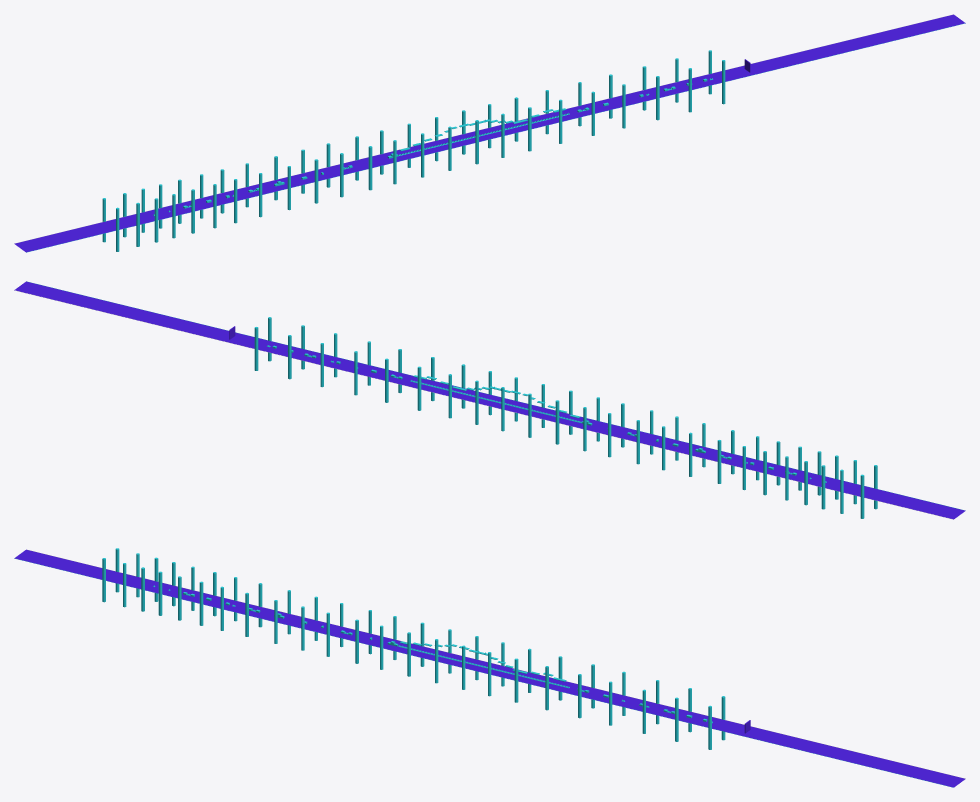
Rendered from pista.glb.
3 renders of one model, top to bottom at view 1: azimuth 30°, elevation 25°; view 2: azimuth 150°, elevation 25°; view 3: azimuth 330°, elevation 25°, orthographic.
Visible parts, largest first — view 1: Suelo, Borde_rosa, Borde_cian; view 2: Suelo, Borde_cian, Borde_rosa; view 3: Suelo, Borde_rosa, Borde_cian.
Boxes of the visible parts, <box> form: Suelo: <box>14,14,965,252</box>; Borde_rosa: <box>26,23,965,252</box>; Borde_cian: <box>16,14,953,243</box>; Suelo: <box>14,281,965,519</box>; Borde_cian: <box>14,290,953,519</box>; Borde_rosa: <box>26,281,963,510</box>; Suelo: <box>14,549,965,787</box>; Borde_rosa: <box>14,558,953,787</box>; Borde_cian: <box>27,549,965,778</box>.
Size of the model in its own units: 620 by 27 by 17.2.
